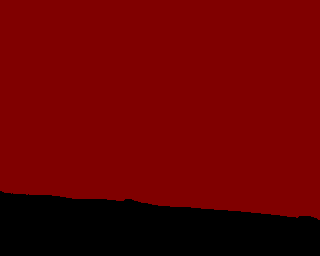Sky: (1, 1, 319, 219)
